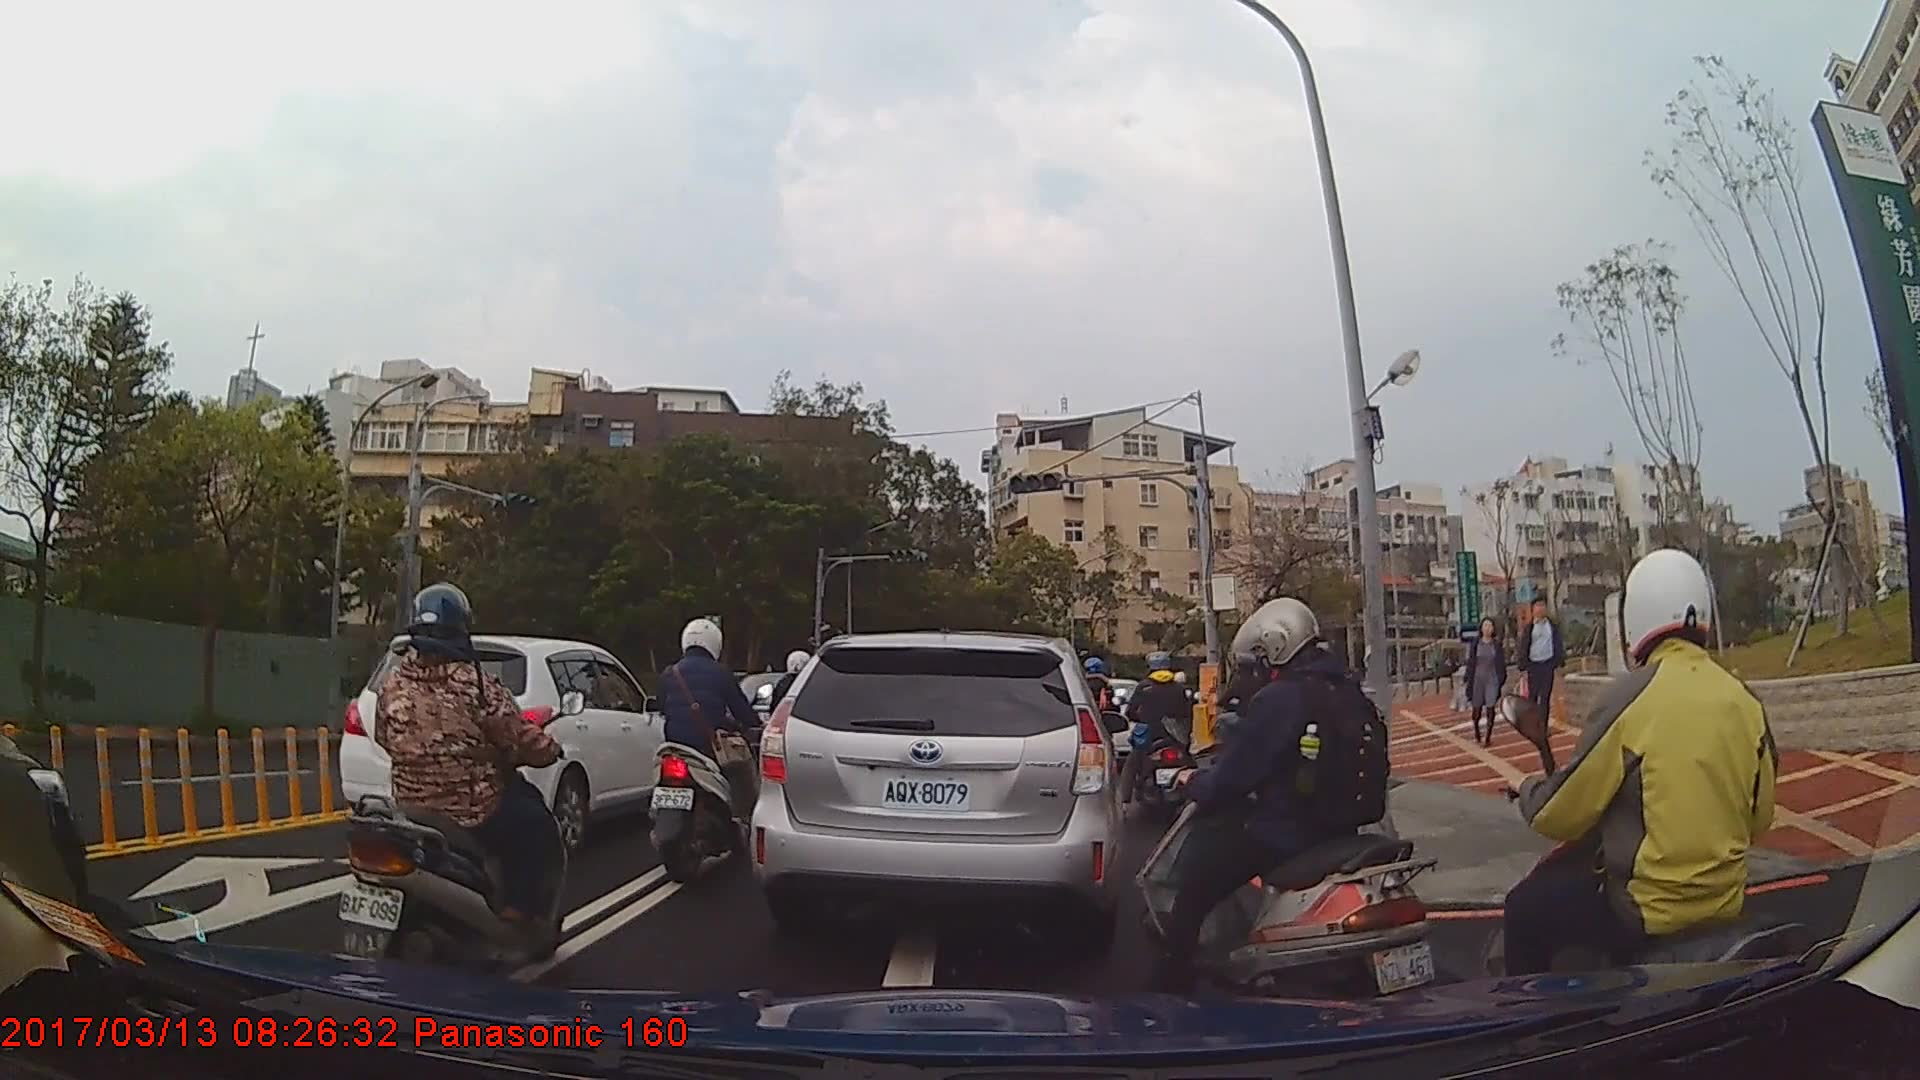pedestrian: (1521, 596, 1569, 747), (1458, 615, 1507, 747)
rider: (1489, 549, 1803, 1067), (1135, 600, 1445, 1016), (333, 582, 575, 993), (648, 616, 776, 884), (1116, 647, 1210, 834)
vehicle: (750, 630, 1123, 945), (339, 633, 685, 854)
